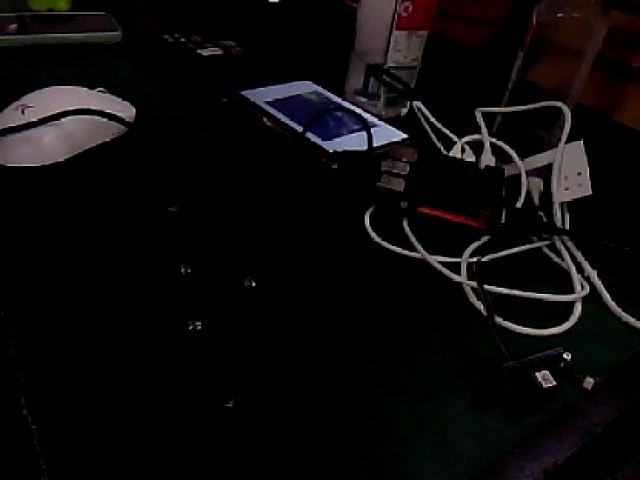steel-ball: (229, 268, 265, 304), (163, 243, 194, 283), (177, 315, 209, 343)
